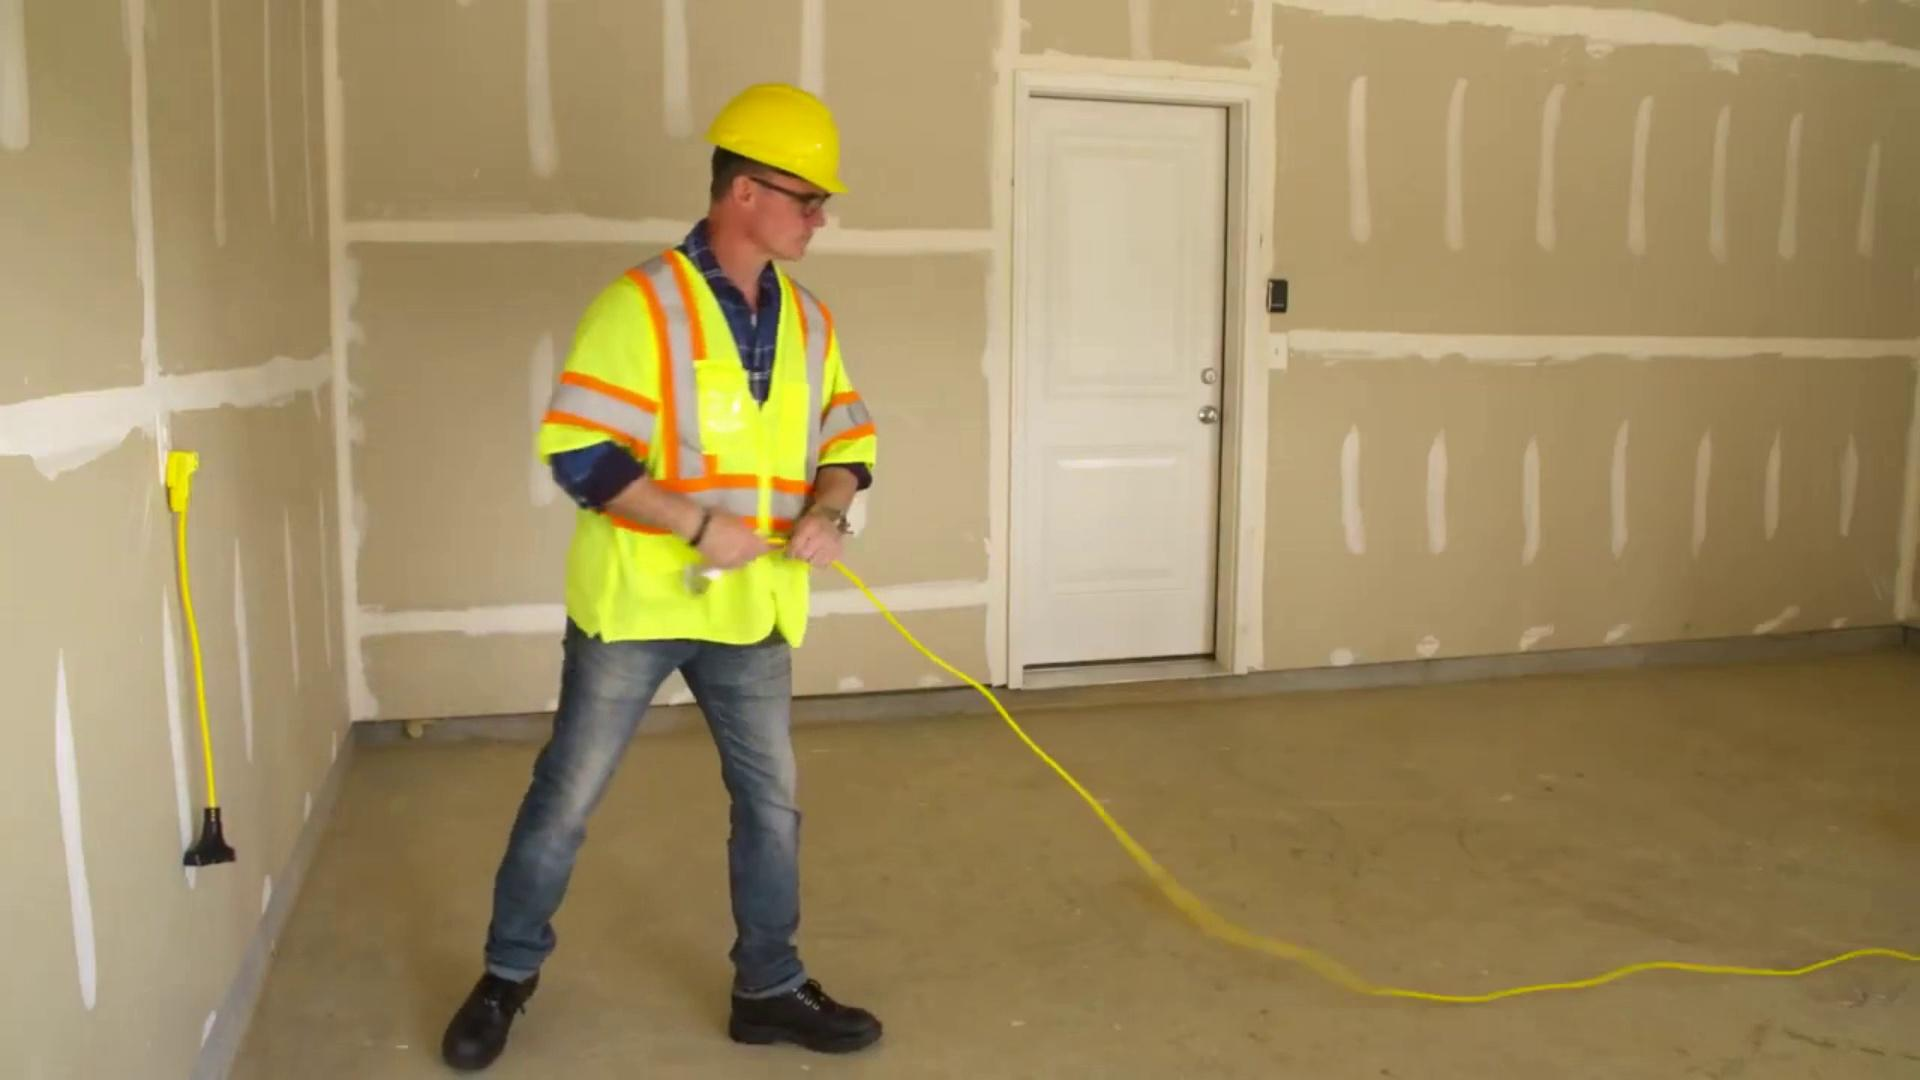hat: (691, 44, 909, 241)
vest: (529, 181, 939, 666)
